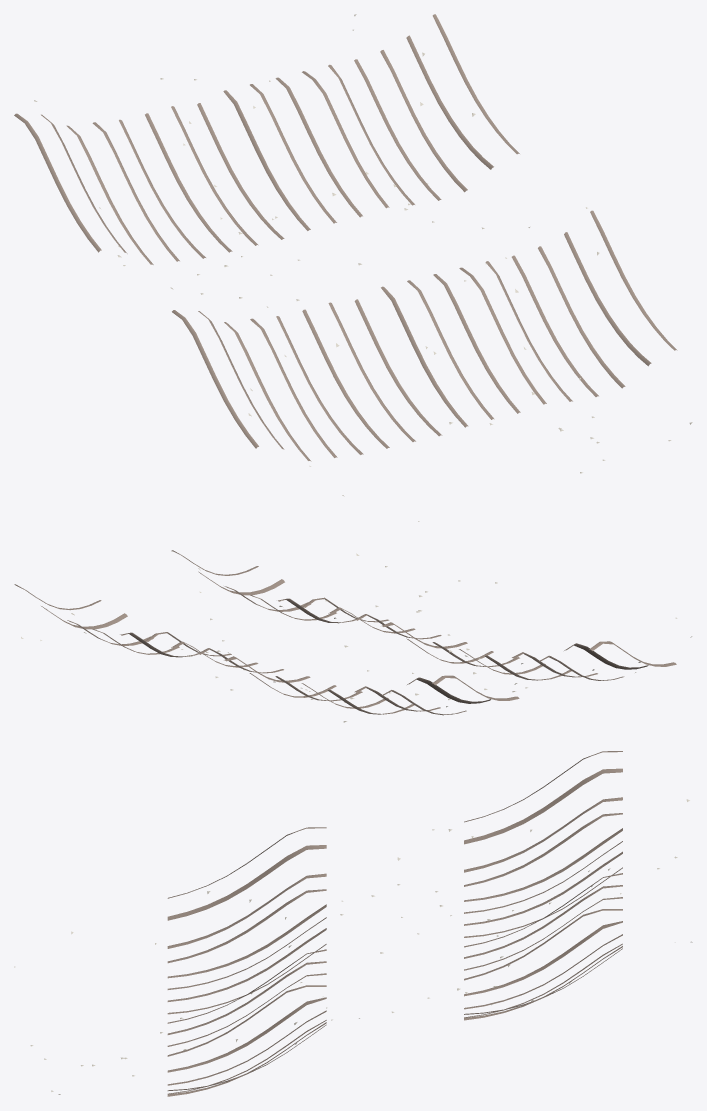
The model's file is bench_coping_detail2.glb.
3 views of the same model, one above another, from view 1: azimuth 30°, elevation 25°; view 2: azimuth 150°, elevation 25°; view 3: azimuth 270°, elevation 25° (orthographic). The views are drawn at different scales.
Parts seen in each view (by area): view 1: bench_coping_detail2_mesh; view 2: bench_coping_detail2_mesh; view 3: bench_coping_detail2_mesh.
Part boxes in pixels (x1=…): bench_coping_detail2_mesh: x1=14, y1=14, x2=692, y2=521; bench_coping_detail2_mesh: x1=14, y1=550, x2=692, y2=722; bench_coping_detail2_mesh: x1=14, y1=751, x2=692, y2=1096.
Bounding box in the file's own units: 21.78 × 9.4 × 32.25.
